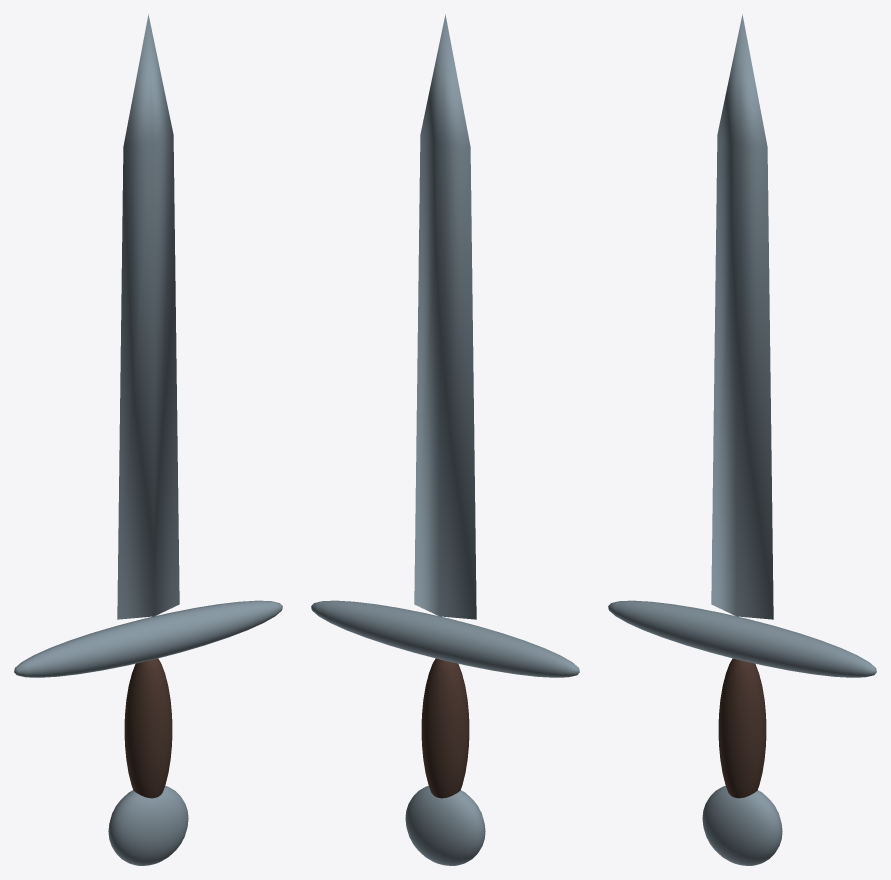
File: sword.glb
3 renders of one model, left to right at view 1: azimuth 30°, elevation 25°; view 2: azimuth 150°, elevation 25°; view 3: azimuth 330°, elevation 25°, orthographic.
Visible parts, largest first — view 1: Blade, Crossguard, Leather grip, Pommel; view 2: Blade, Crossguard, Leather grip, Pommel; view 3: Blade, Crossguard, Leather grip, Pommel.
Boxes of the visible parts, box(x1,y1,x2,y2) form: Blade: box(117, 14, 179, 619); Crossguard: box(14, 600, 282, 677); Leather grip: box(124, 658, 172, 798); Pommel: box(108, 786, 188, 865); Blade: box(414, 14, 476, 619); Crossguard: box(311, 600, 579, 677); Leather grip: box(421, 658, 469, 798); Pommel: box(405, 786, 485, 865); Blade: box(711, 14, 773, 619); Crossguard: box(608, 600, 876, 677); Leather grip: box(718, 658, 766, 798); Pommel: box(702, 786, 782, 865).
Bounding box in the file's own units: 0.3105 × 0.938 × 0.05.
